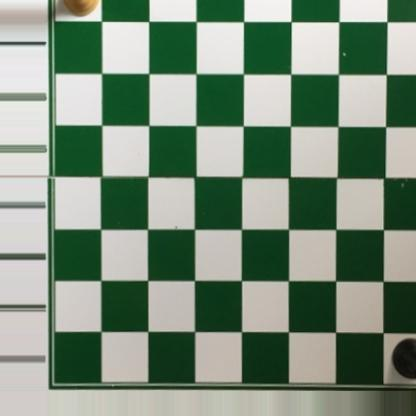black-king: (389, 337, 416, 392)
white-king: (52, 0, 102, 18)
